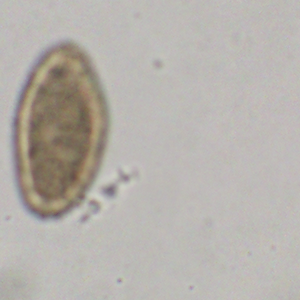Fasciola_hepatica_egg: (12, 39, 110, 220)
